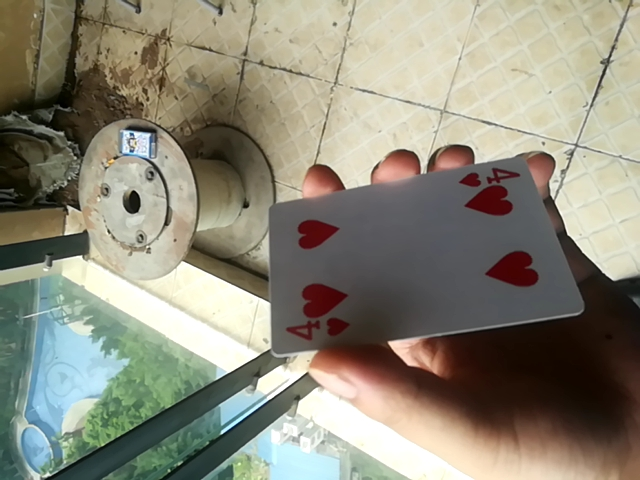hx 4: (265, 148, 591, 361)
